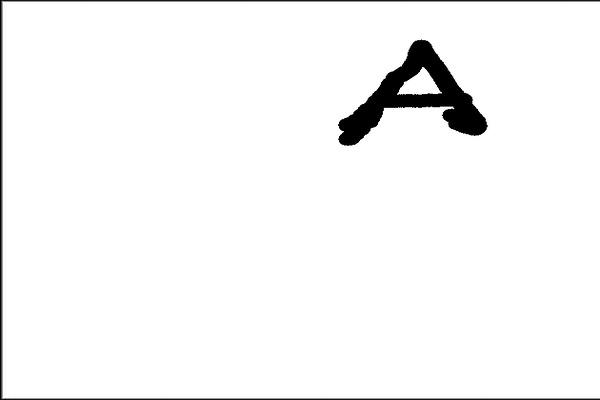A: (327, 35, 492, 146)
